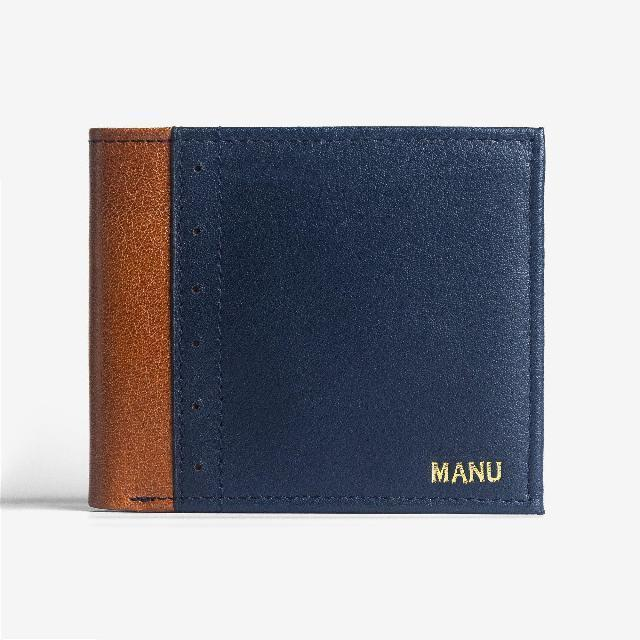wallet: (85, 125, 542, 513)
